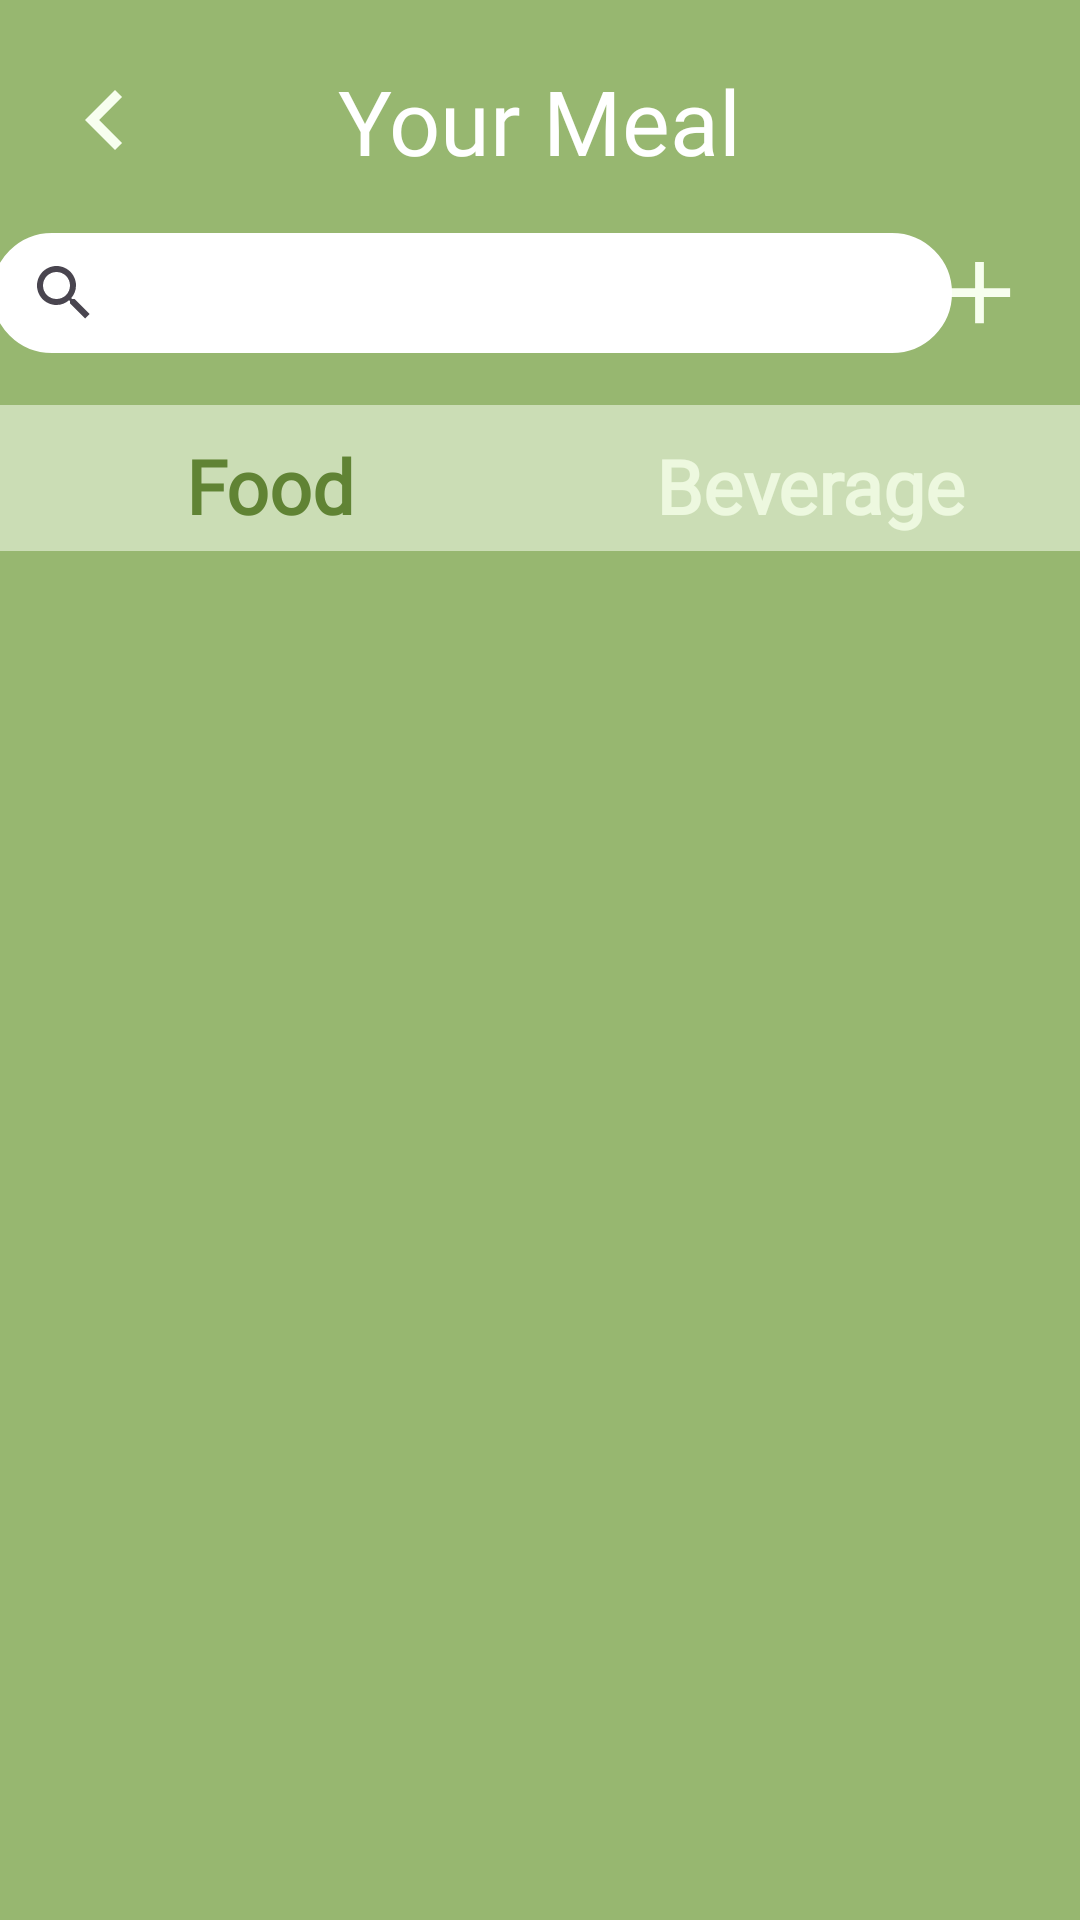

Icon bounding boxes for this 1080 × 1920 phone screenshot, format (x1, y1, x2, y2):
left: (85, 90, 122, 150)
